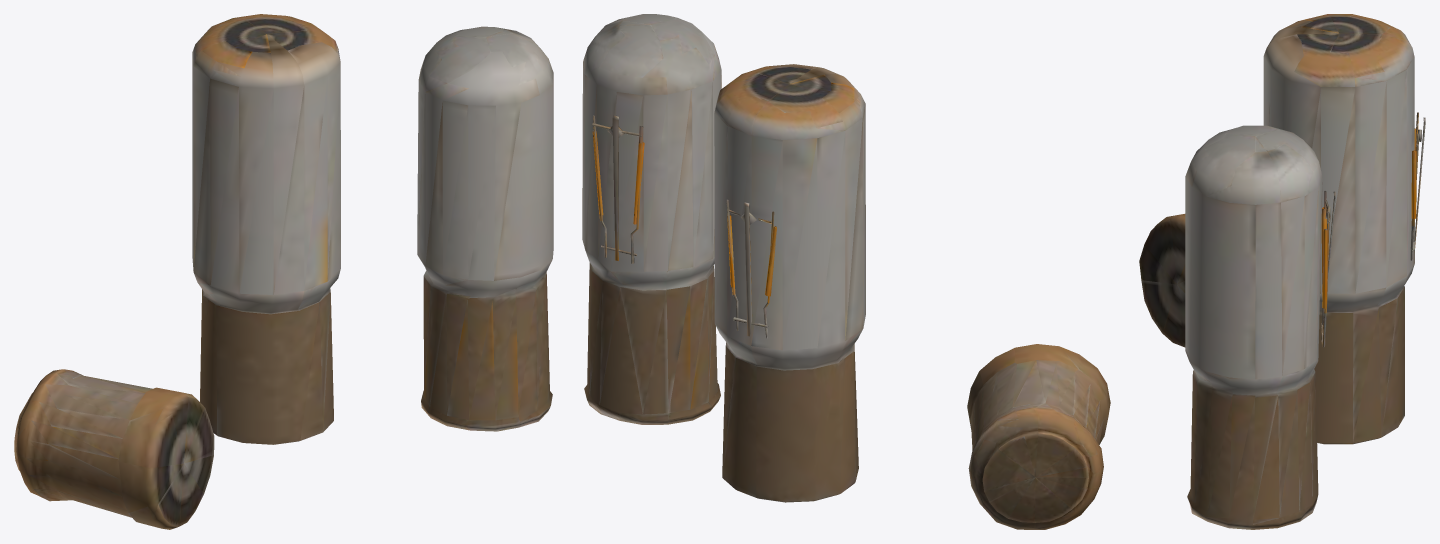
Rendered from fuse.glb.
The picture shows the model from 3 angles, left to right: view 1: azimuth 30°, elevation 25°; view 2: azimuth 150°, elevation 25°; view 3: azimuth 270°, elevation 25°; orthographic projection. The views are drawn at different scales.
Size of the model in its own units: 0.9575 by 0.7041 by 0.4614.
Materials: 1 (1 with a texture image).
